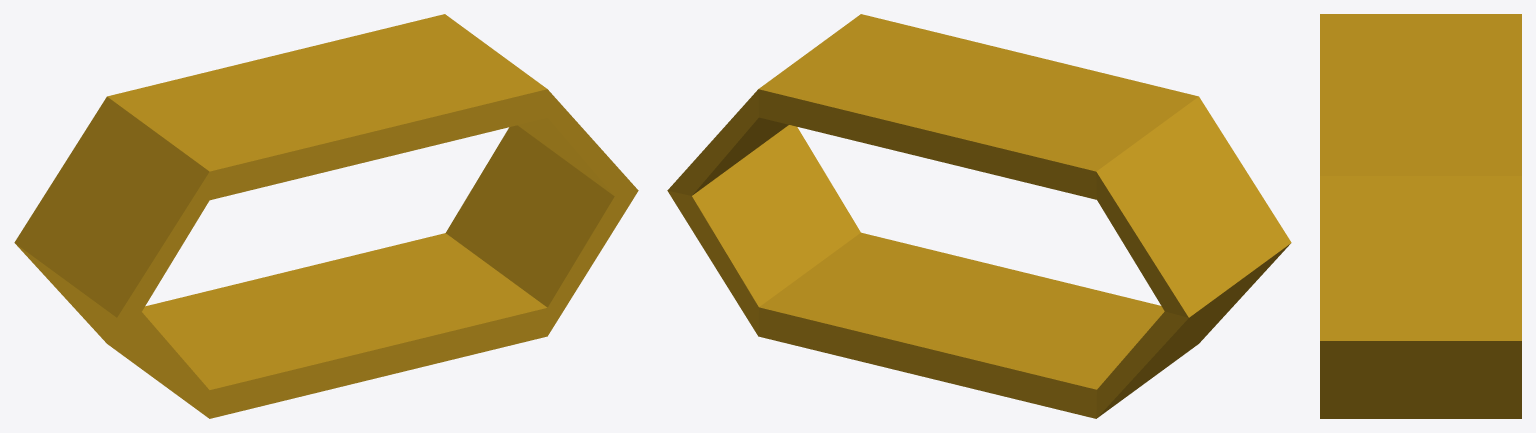
The model's file is hexagon rectangle table gold.glb.
3 views of the same model, side by side, from view 1: azimuth 30°, elevation 25°; view 2: azimuth 150°, elevation 25°; view 3: azimuth 270°, elevation 25° (orthographic).
Parts seen in each view (by area): view 1: geometric table goal; view 2: geometric table goal; view 3: geometric table goal.
Boxes of the visible parts, box(x1,y1,x2,y2) form: geometric table goal: box(14, 14, 638, 418); geometric table goal: box(667, 14, 1291, 418); geometric table goal: box(1320, 14, 1521, 418).
Size of the model in its own units: 2.05 by 0.9304 by 0.7.
